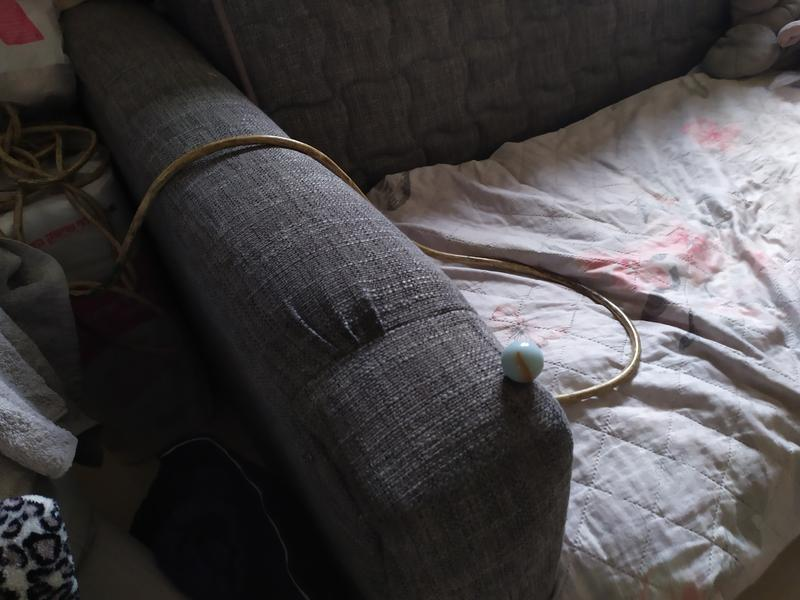Warning: (500, 336, 546, 385)
